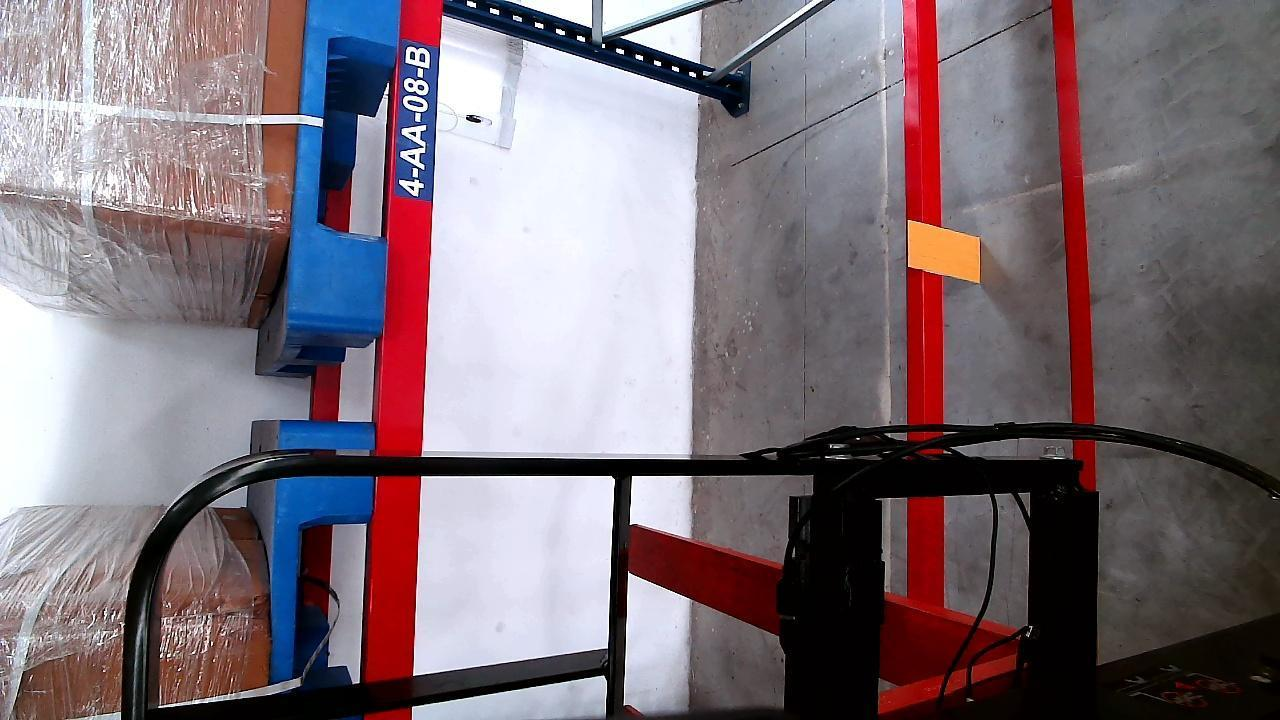h_rack: (905, 0, 944, 612)
orange_strip: (909, 221, 987, 281)
red_line: (1052, 0, 1097, 493)
small_pallet: (289, 0, 397, 338), (271, 453, 375, 683)
